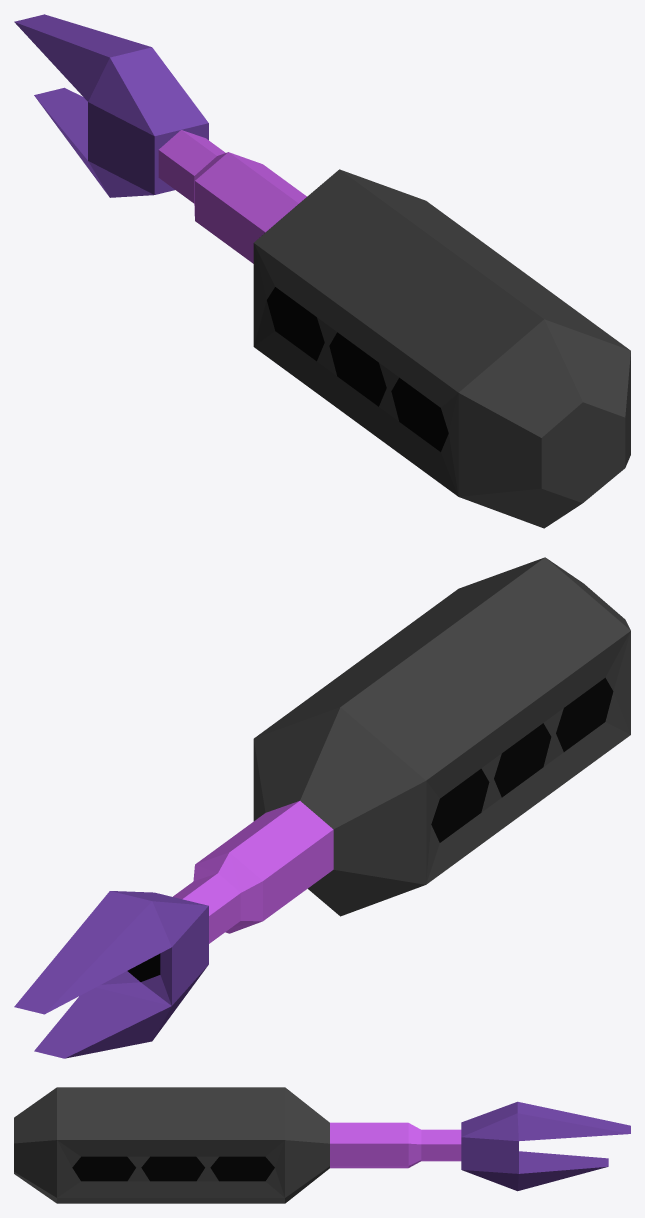
The model's file is hand.FBX.
3 renders of one model, top to bottom at view 1: azimuth 30°, elevation 25°; view 2: azimuth 150°, elevation 25°; view 3: azimuth 270°, elevation 25°, orthographic. The views are drawn at different scales.
Visible parts, largest first — view 1: VIFS004, VIFS002, VIFS001, VIFS003; view 2: VIFS004, VIFS002, VIFS001, VIFS003; view 3: VIFS004, VIFS002, VIFS001, VIFS003.
Part boxes in pixels (x1,y1,x2,y2): VIFS004: (253, 169, 630, 528); VIFS002: (14, 14, 208, 197); VIFS001: (158, 130, 306, 263); VIFS003: (267, 287, 448, 451); VIFS004: (253, 557, 630, 916); VIFS002: (14, 891, 208, 1058); VIFS001: (173, 801, 333, 943); VIFS003: (127, 677, 613, 981); VIFS004: (14, 1087, 329, 1203); VIFS002: (461, 1101, 630, 1191); VIFS001: (330, 1122, 461, 1168); VIFS003: (72, 1156, 274, 1181).
Bounding box in the file's own units: 0.175 × 0.203 × 0.974.
